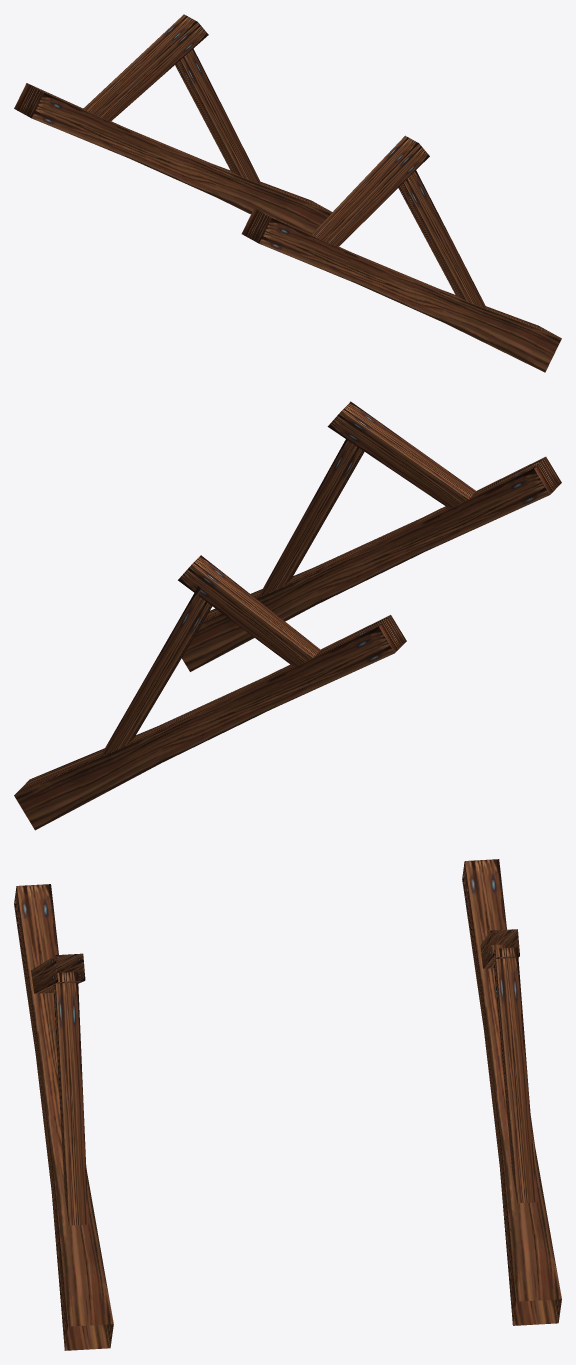
Rendered from OVERHILL_A_01_POST41.fbx.
3 renders of one model, top to bottom at view 1: azimuth 30°, elevation 25°; view 2: azimuth 150°, elevation 25°; view 3: azimuth 270°, elevation 25°, orthographic. The views are drawn at different scales.
Visible parts, largest first — view 1: OVERHILL_A_01_POST41; view 2: OVERHILL_A_01_POST41; view 3: OVERHILL_A_01_POST41.
Part boxes in pixels (bbox=[...]): OVERHILL_A_01_POST41: bbox=[14, 14, 561, 372]; OVERHILL_A_01_POST41: bbox=[14, 401, 561, 830]; OVERHILL_A_01_POST41: bbox=[14, 859, 561, 1350].
Size of the model in its own units: 24968 by 16974 by 26420.
1 material, 1 textured.
